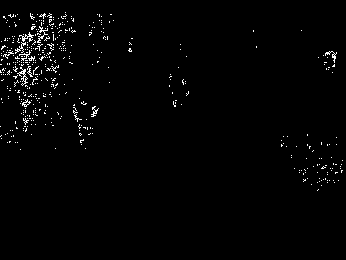person: (71, 89, 100, 151)
